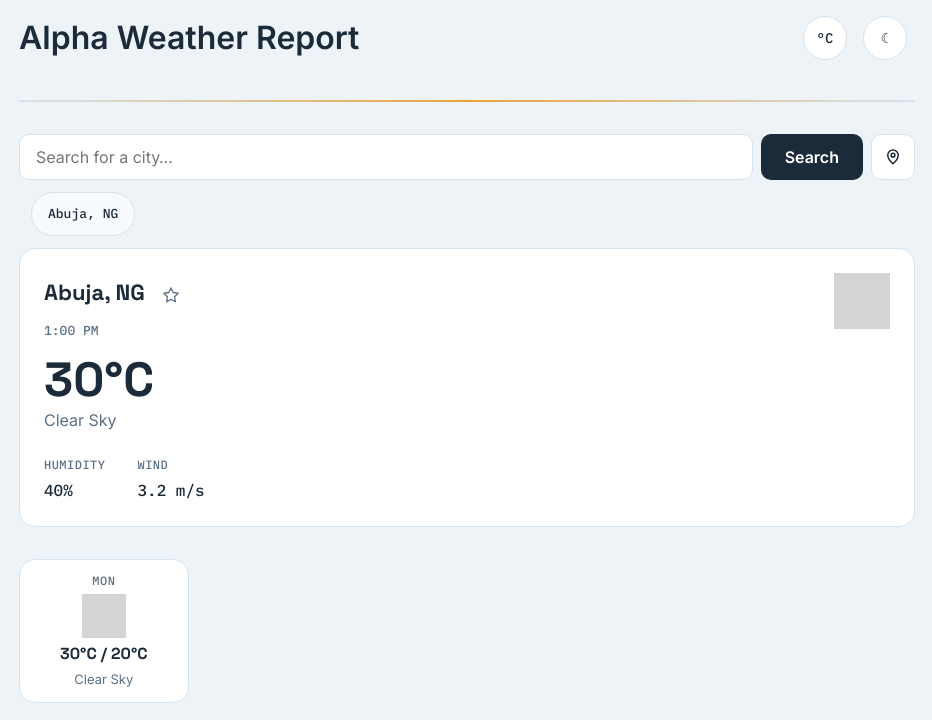
Scenario: App — recent searches integration (Step 16) › records a chip after a successful search (including the Step 17 initial auto-load), keeps prior chips, and clicking a chip re-searches that city
The width and height of the screenshot is (932, 720).
Check: the button "Abuja, NG" is shown, box 31,192 -> 135,236
Type "London" into the field at (386, 157), box 19,134 -> 753,180
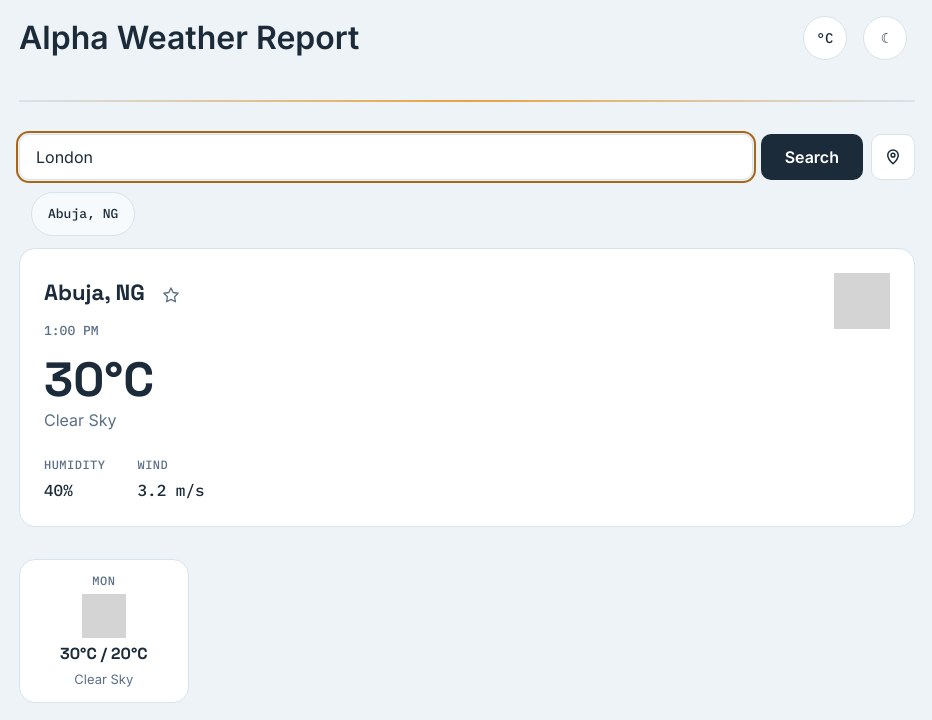
Click the button "Search" at (812, 157), box 761,134 -> 863,180
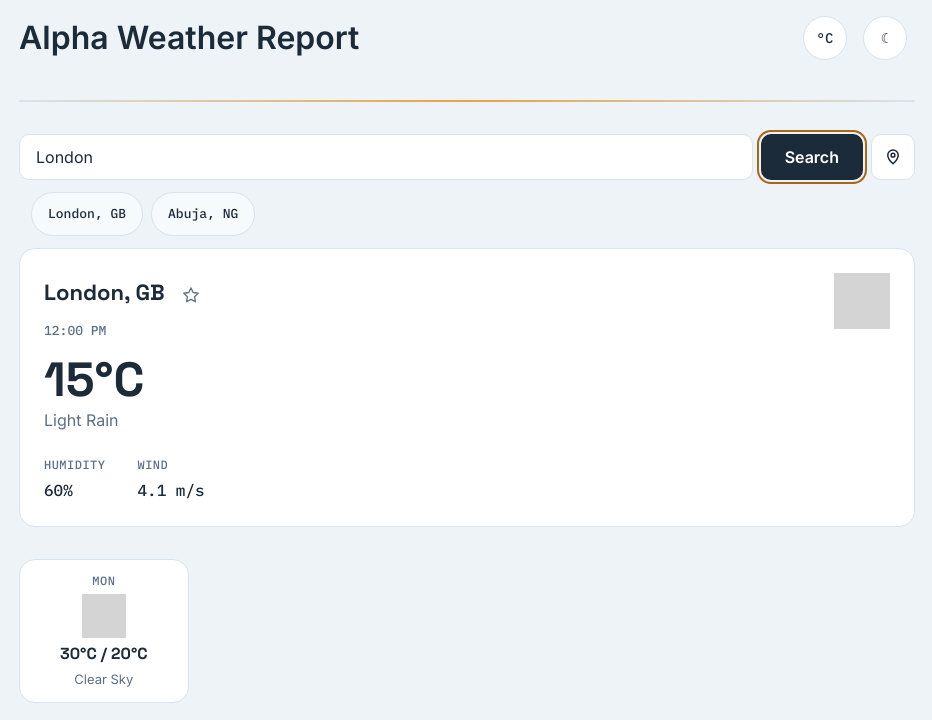
Check: the button "London, GB" is shown, box 31,192 -> 143,236
Click the button "Abuja, NG" at (203, 214), box 151,192 -> 255,236
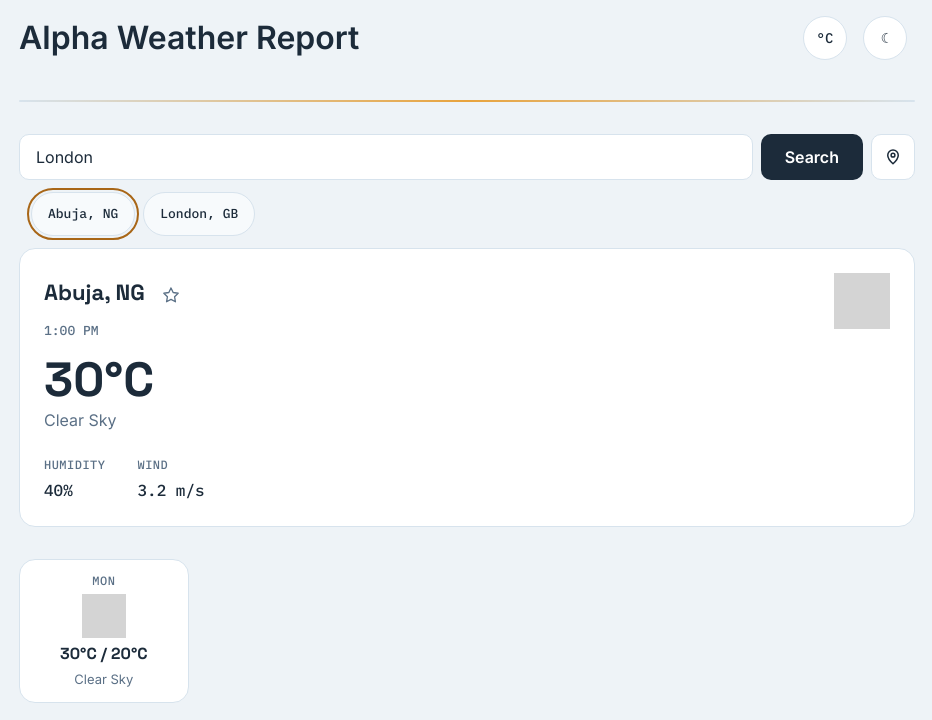
Check: the text "30°C" is shown, box 44,349 -> 154,410
